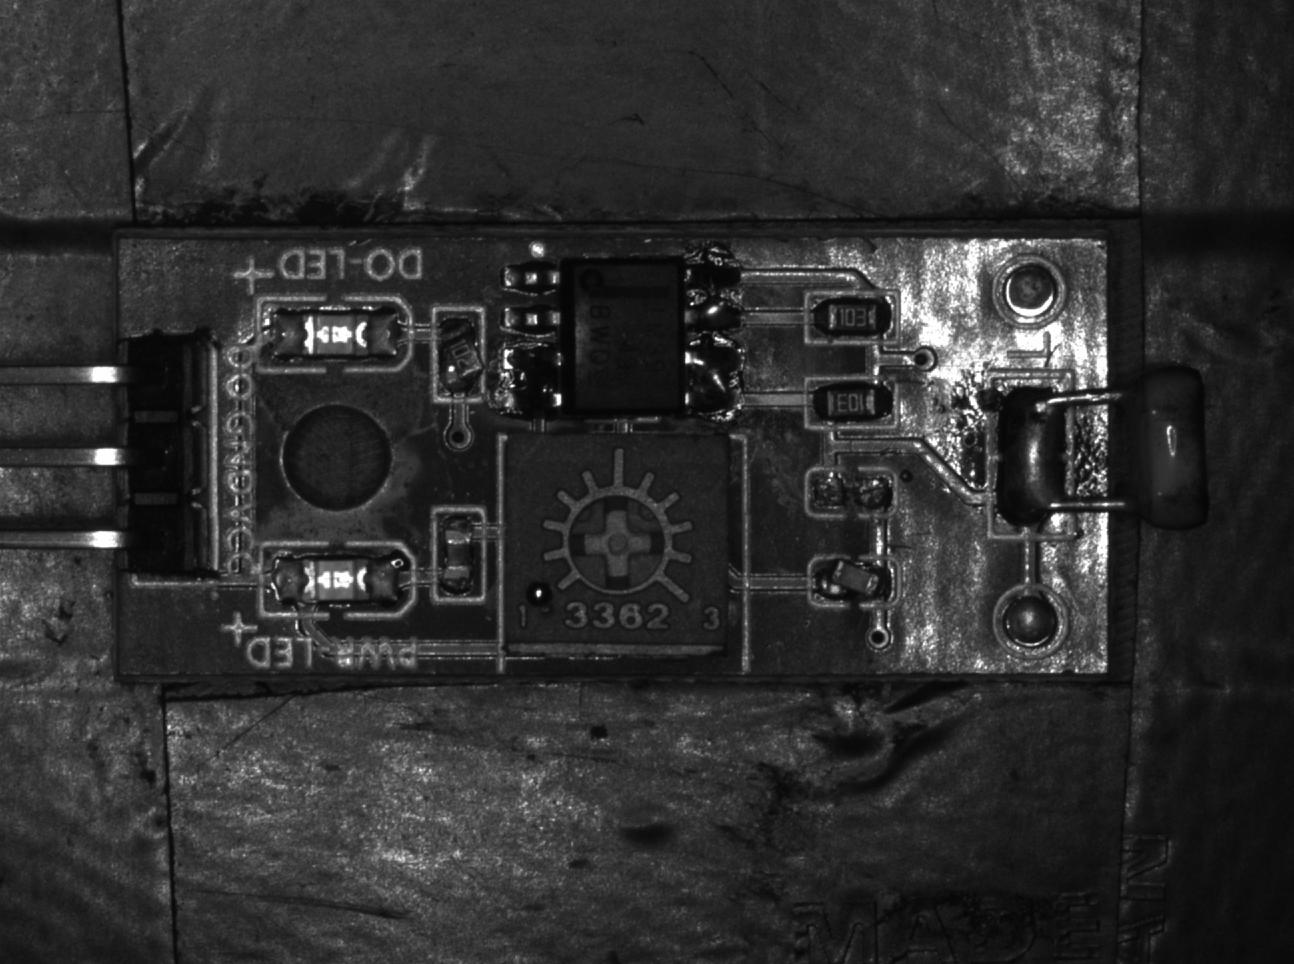bridge: (988, 373, 1076, 533), (684, 255, 743, 344), (684, 350, 740, 431), (503, 341, 560, 411)
lifted: (431, 305, 486, 402), (809, 558, 900, 604)
miss: (425, 510, 486, 605), (806, 465, 901, 520)
ok: (804, 377, 898, 428), (808, 294, 897, 344)
